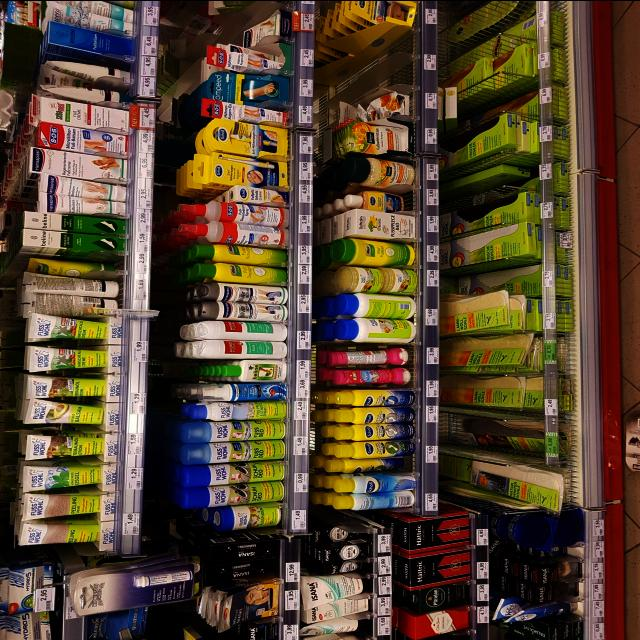empty_space: (328, 37, 402, 61), (329, 66, 403, 88)
